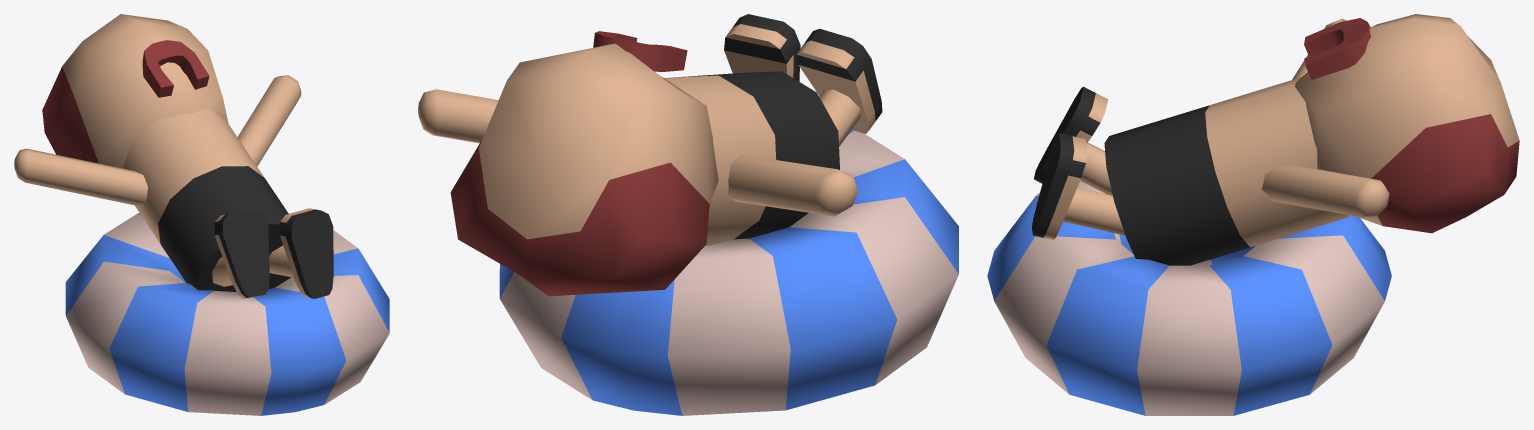
File: char_2.fbx
The picture shows the model from 3 angles, left to right: view 1: azimuth 30°, elevation 25°; view 2: azimuth 150°, elevation 25°; view 3: azimuth 270°, elevation 25°; orthographic projection. The views are drawn at different scales.
Parts seen in each view (by area): view 1: ring.001, char_1.007, Cylinder.002, Cube.002, Cube.003, Cylinder.003, Cylinder.004, Cylinder.001; view 2: ring.001, char_1.007, Cylinder.002, Cube.003, Cube.002, Cylinder.003, Cylinder.001; view 3: char_1.007, ring.001, Cylinder.003, Cube.002, Cube.003, Cylinder.004, Cylinder.001.
Part boxes in pixels (<box>): ring.001: <box>65,213,389,415</box>; char_1.007: <box>42,14,291,291</box>; Cylinder.002: <box>14,148,147,207</box>; Cube.002: <box>280,208,333,298</box>; Cube.003: <box>214,209,269,298</box>; Cylinder.003: <box>237,75,301,166</box>; Cylinder.004: <box>269,245,293,277</box>; Cylinder.001: <box>212,257,232,286</box>; ring.001: <box>499,130,958,415</box>; char_1.007: <box>450,31,839,296</box>; Cylinder.002: <box>728,154,857,216</box>; Cube.003: <box>796,28,882,133</box>; Cube.002: <box>724,14,800,81</box>; Cylinder.003: <box>418,89,498,143</box>; Cylinder.001: <box>819,89,860,146</box>; char_1.007: <box>1104,14,1519,265</box>; ring.001: <box>987,181,1391,415</box>; Cylinder.003: <box>1262,165,1389,217</box>; Cube.002: <box>1032,133,1087,239</box>; Cube.003: <box>1034,86,1108,183</box>; Cylinder.004: <box>1063,187,1125,235</box>; Cylinder.001: <box>1080,143,1112,195</box>.
Bounding box in the file's own units: 0.2886 × 0.2587 × 0.3749.
